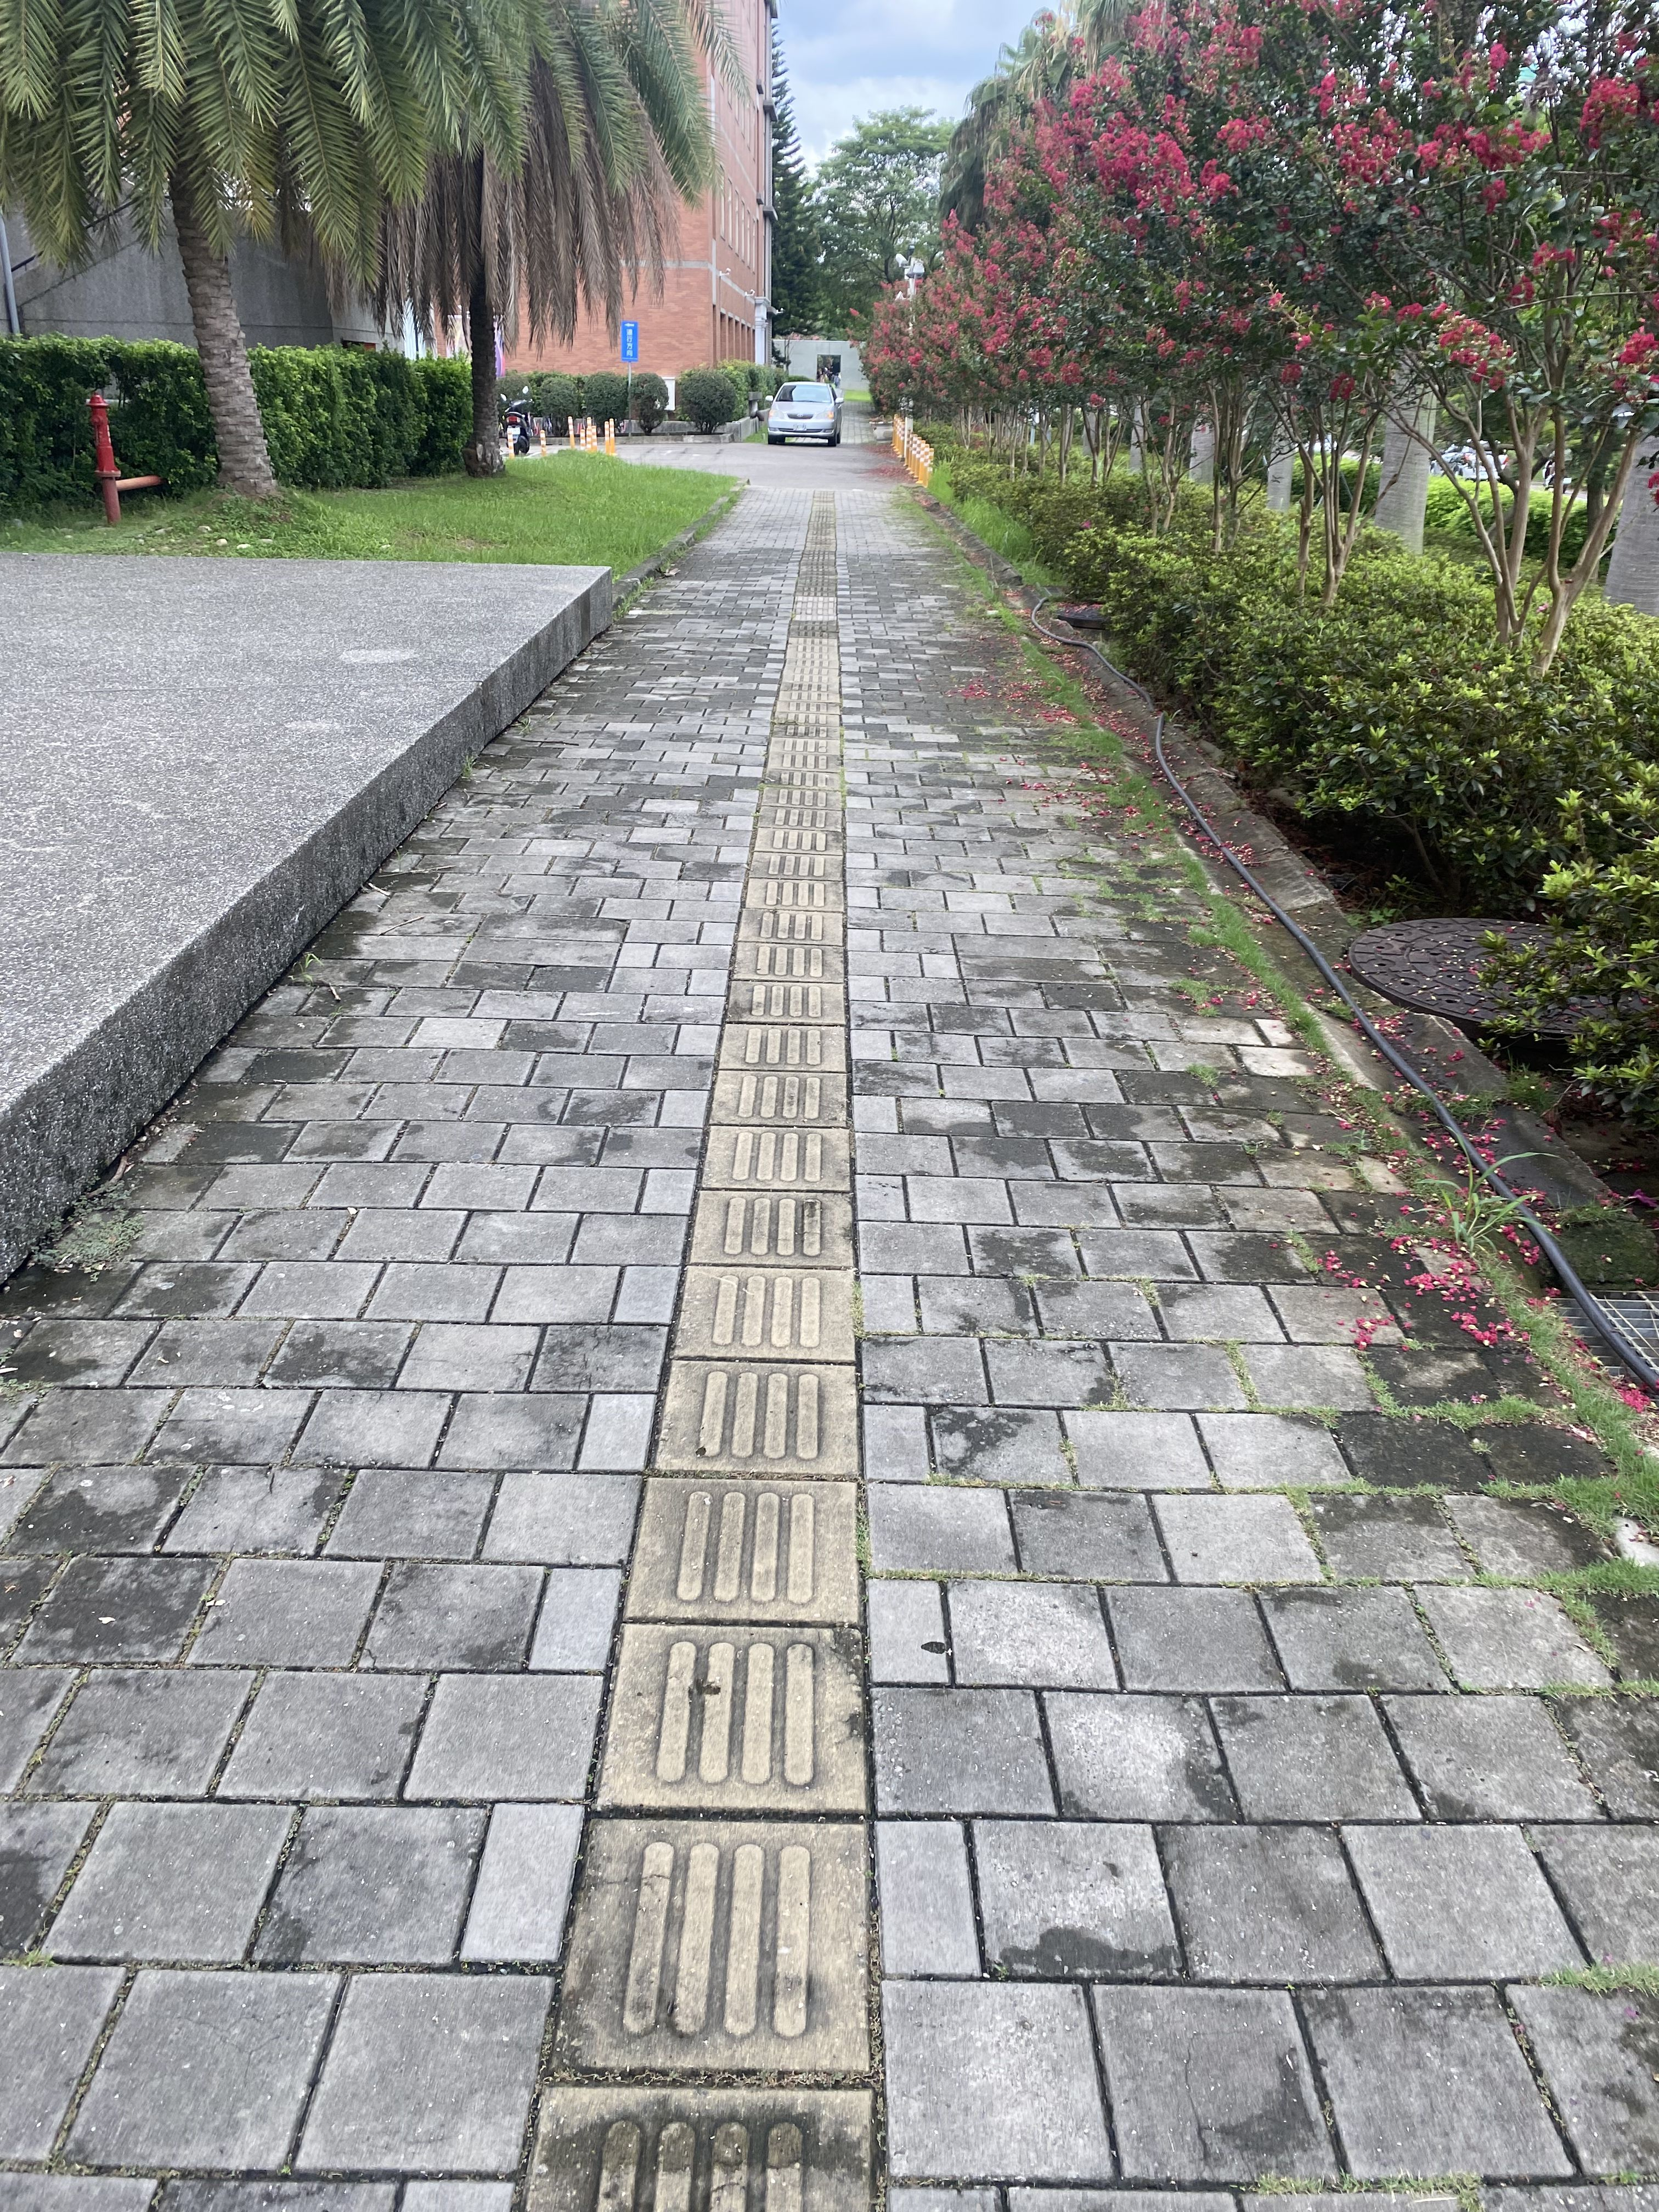0: (0, 738, 1659, 2212)
sidewalk: (453, 493, 1241, 1625)
